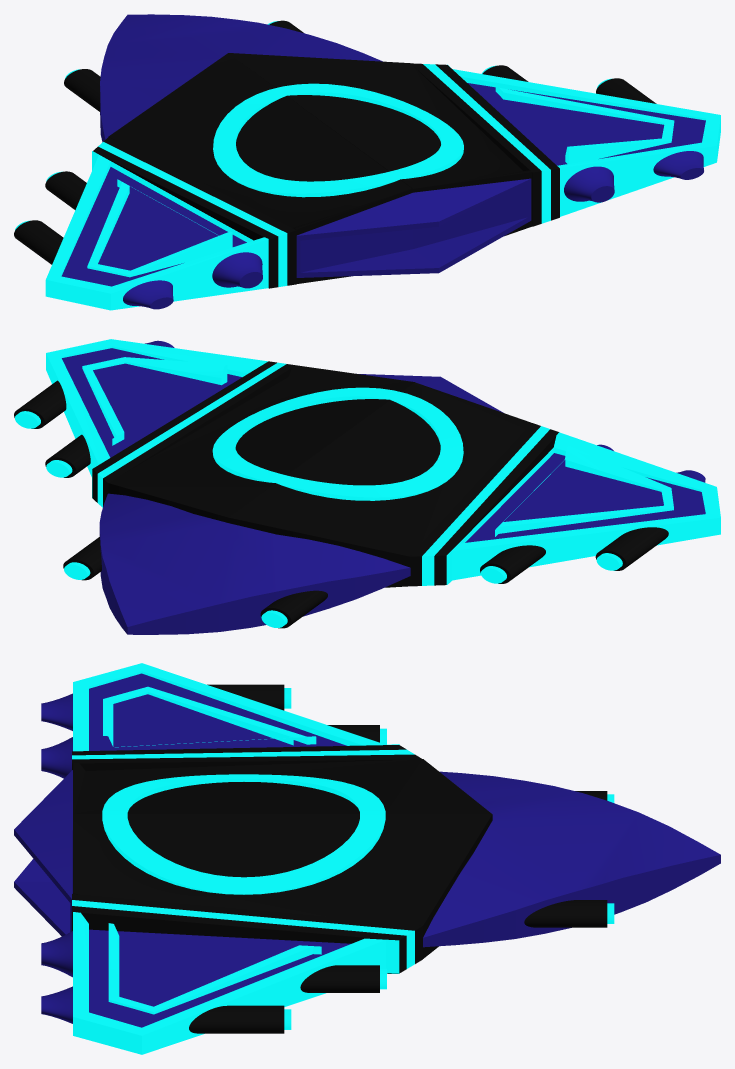
The model's file is ship1.FBX.
3 renders of one model, top to bottom at view 1: azimuth 30°, elevation 25°; view 2: azimuth 150°, elevation 25°; view 3: azimuth 270°, elevation 25°, orthographic. The views are drawn at different scales.
Parts seen in each view (by area): view 1: Line007; view 2: Line007; view 3: Line007.
Part boxes in pixels (x1,y1,x2,y2): Line007: (14,14,720,310); Line007: (14,339,720,634); Line007: (14,663,720,1054).
Size of the model in its own units: 11.95 by 1.34 by 9.58.
